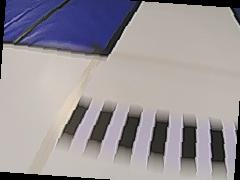CrossWalk: (99, 101, 238, 171), (58, 91, 154, 157)
